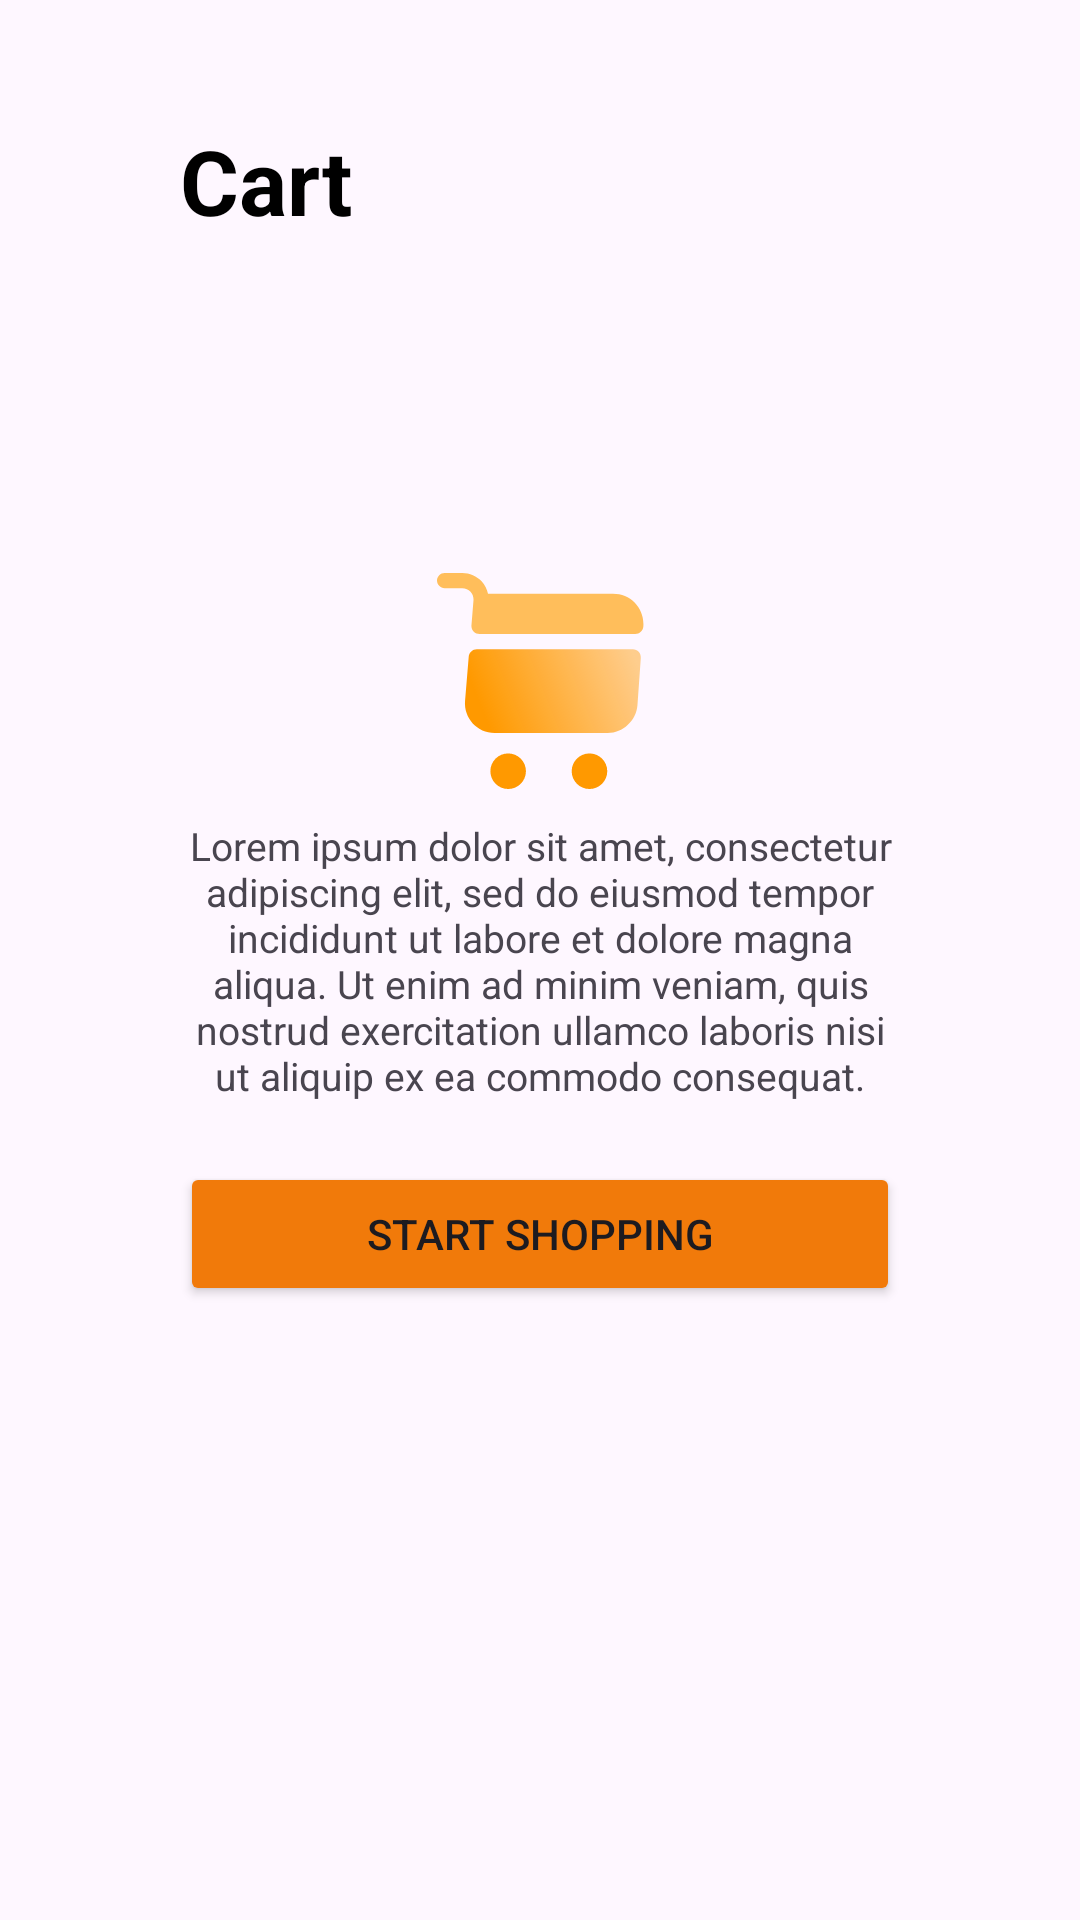

Icons on this 1080w x 1920h Android screen, each with the point to tap as (x=x, y=y):
landing carticon: (x=540, y=681)
